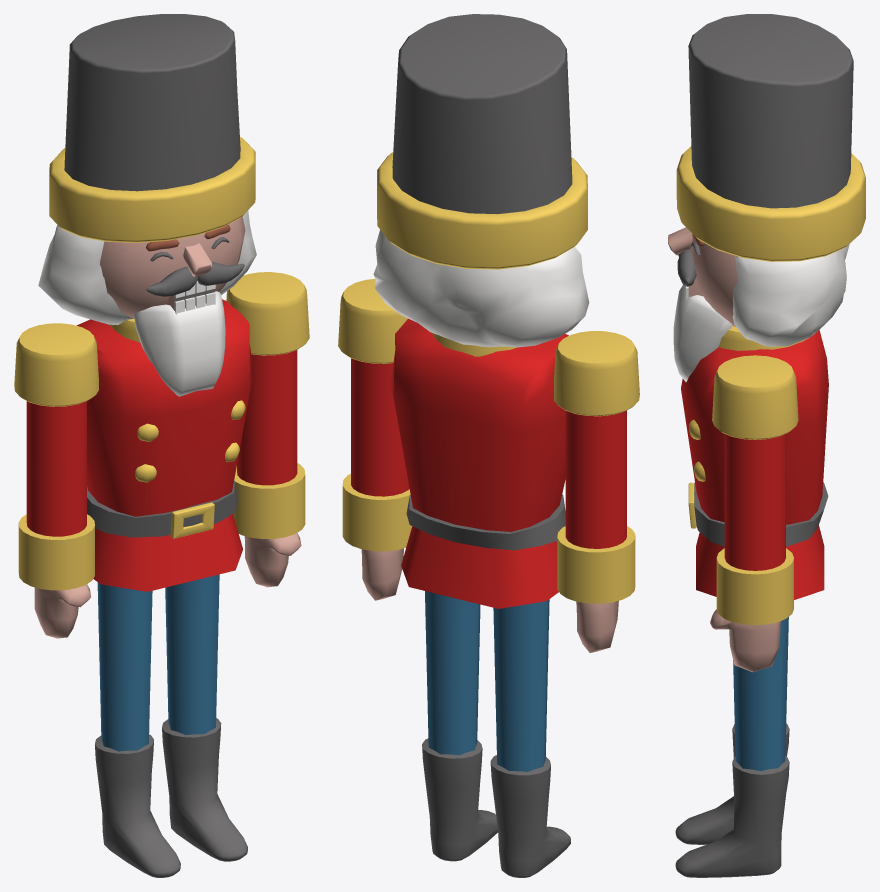
Rendered from Christmas_Nutcracker_231109.glb.
3 views of the same model, side by side, from view 1: azimuth 30°, elevation 25°; view 2: azimuth 150°, elevation 25°; view 3: azimuth 270°, elevation 25° (orthographic). The views are drawn at different scales.
Visible parts, largest first — view 1: Nutcracker; view 2: Nutcracker; view 3: Nutcracker.
Boxes of the visible parts, x1,y1,x2,y2 form: Nutcracker: [14, 14, 309, 877]; Nutcracker: [338, 14, 639, 877]; Nutcracker: [668, 14, 865, 877].
Size of the model in its own units: 0.607 by 1.64 by 0.3623.
1 material, 1 textured.
